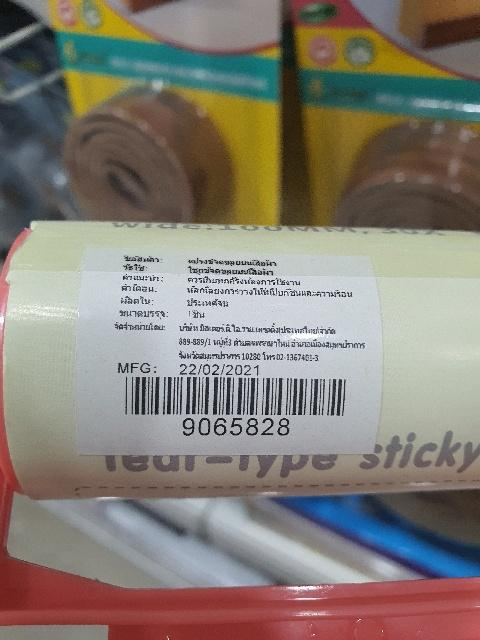Barcode: (109, 368, 358, 438)
